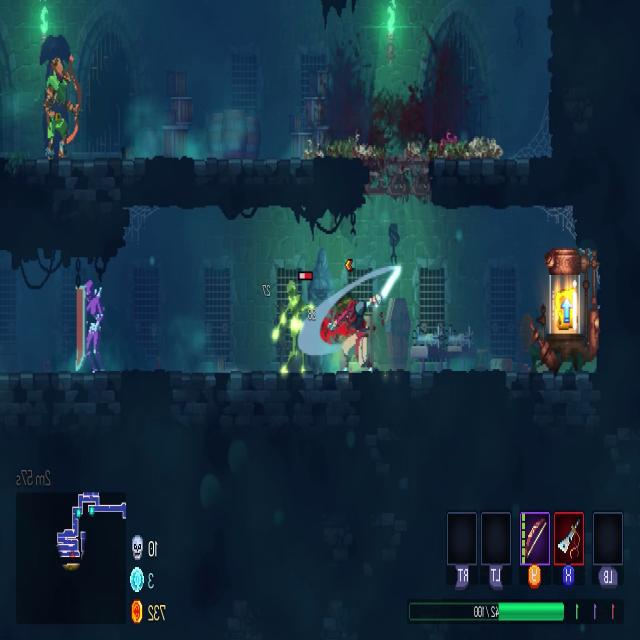agents: (322, 288, 378, 373)
enemy_archer: (42, 54, 78, 158)
enemy_green_puncher: (260, 276, 316, 383)
enemy_purple_shield: (73, 282, 102, 373)
